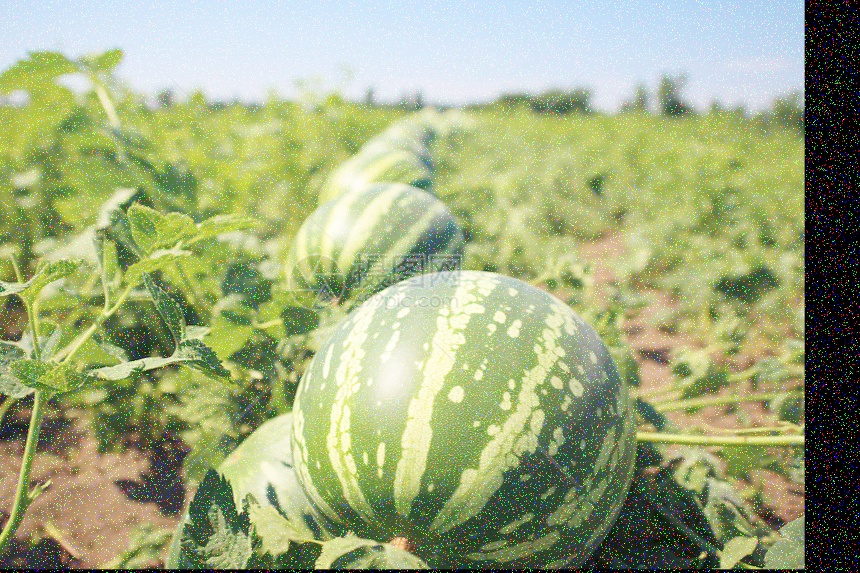watermelon: (291, 274, 633, 559), (287, 180, 465, 307)
